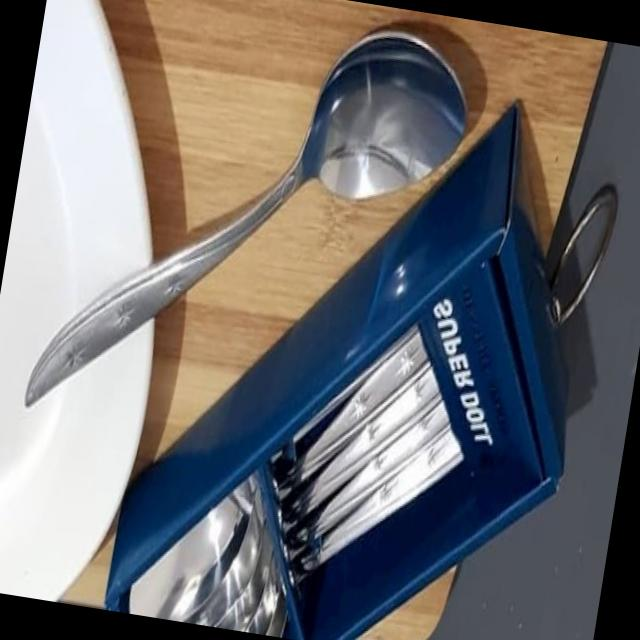spoon: (8, 20, 478, 420), (113, 312, 481, 639)
